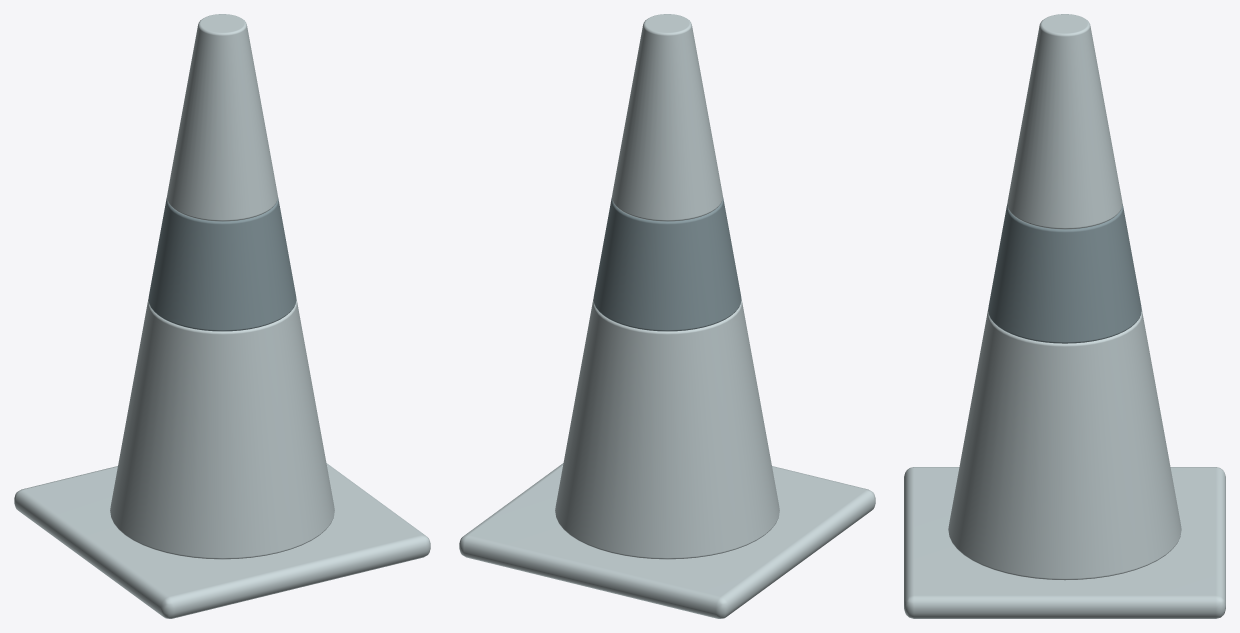
Rendered from traffic-cone.glb.
3 renders of one model, left to right at view 1: azimuth 30°, elevation 25°; view 2: azimuth 150°, elevation 25°; view 3: azimuth 270°, elevation 25°, orthographic. The views are drawn at different scales.
Visible parts, largest first — view 1: lower_shell, base, upper_shell, visibility_band; view 2: lower_shell, base, upper_shell, visibility_band; view 3: lower_shell, base, upper_shell, visibility_band.
Part boxes in pixels (bbox=[...]): lower_shell: bbox=[110, 299, 334, 559]; base: bbox=[14, 463, 430, 618]; upper_shell: bbox=[167, 14, 277, 221]; visibility_band: bbox=[148, 197, 296, 331]; lower_shell: bbox=[555, 299, 779, 559]; base: bbox=[459, 463, 875, 618]; upper_shell: bbox=[612, 14, 722, 221]; visibility_band: bbox=[593, 197, 741, 331]; lower_shell: bbox=[948, 310, 1181, 580]; base: bbox=[904, 467, 1225, 618]; upper_shell: bbox=[1007, 14, 1122, 229]; visibility_band: bbox=[988, 204, 1141, 343].
Size of the model in its own units: 0.385 by 0.7 by 0.385.
